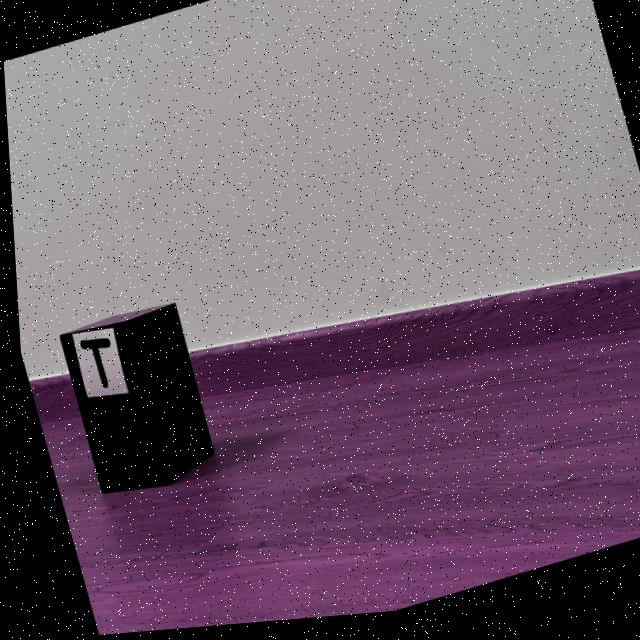T: (75, 339, 105, 389)
